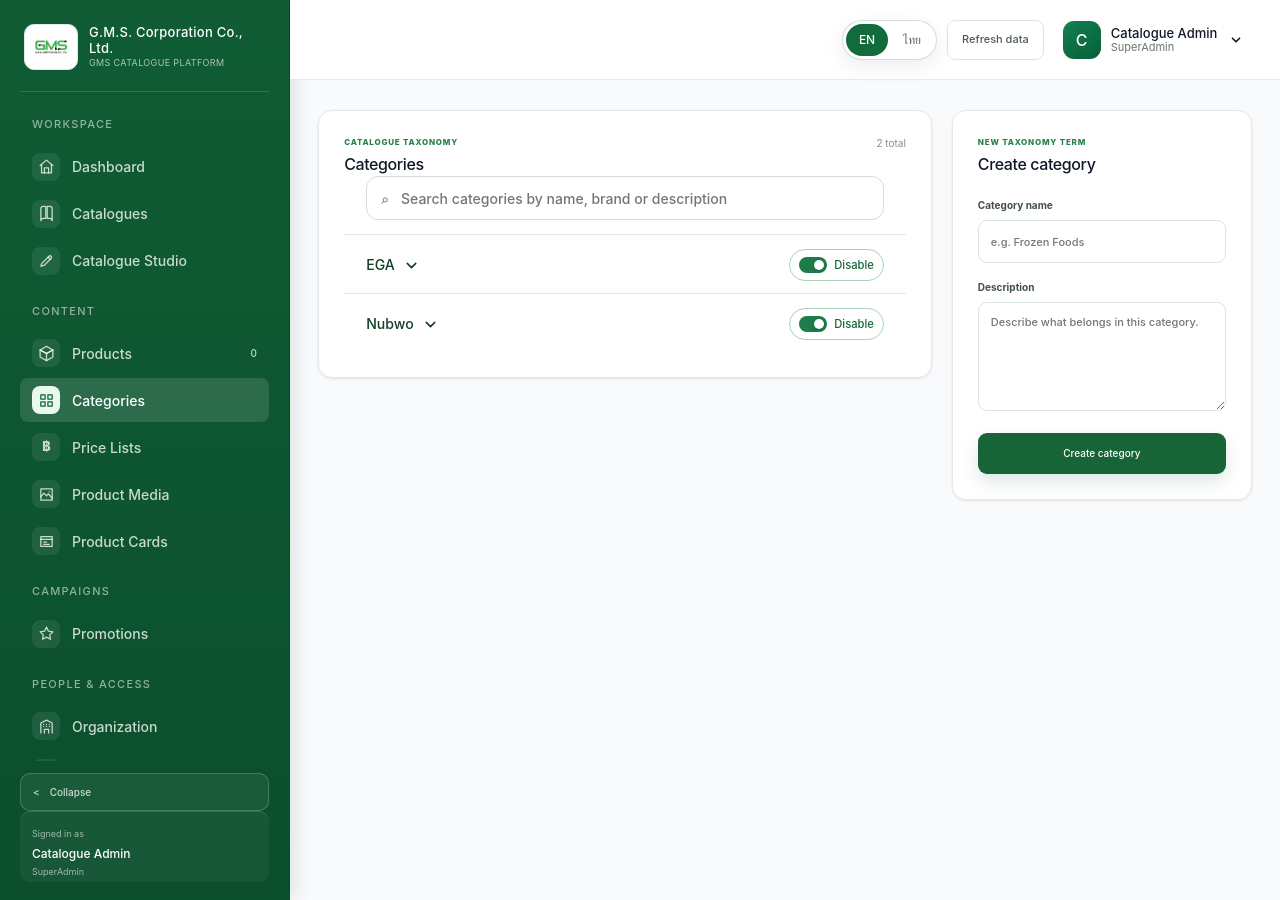
it: category management › loads active and inactive categories for management
Expected: the heading "Categories" is shown, [344,154,424,174]
Click the button with aria-label "Nubwo categories": (406, 324) [366,306,447,342]
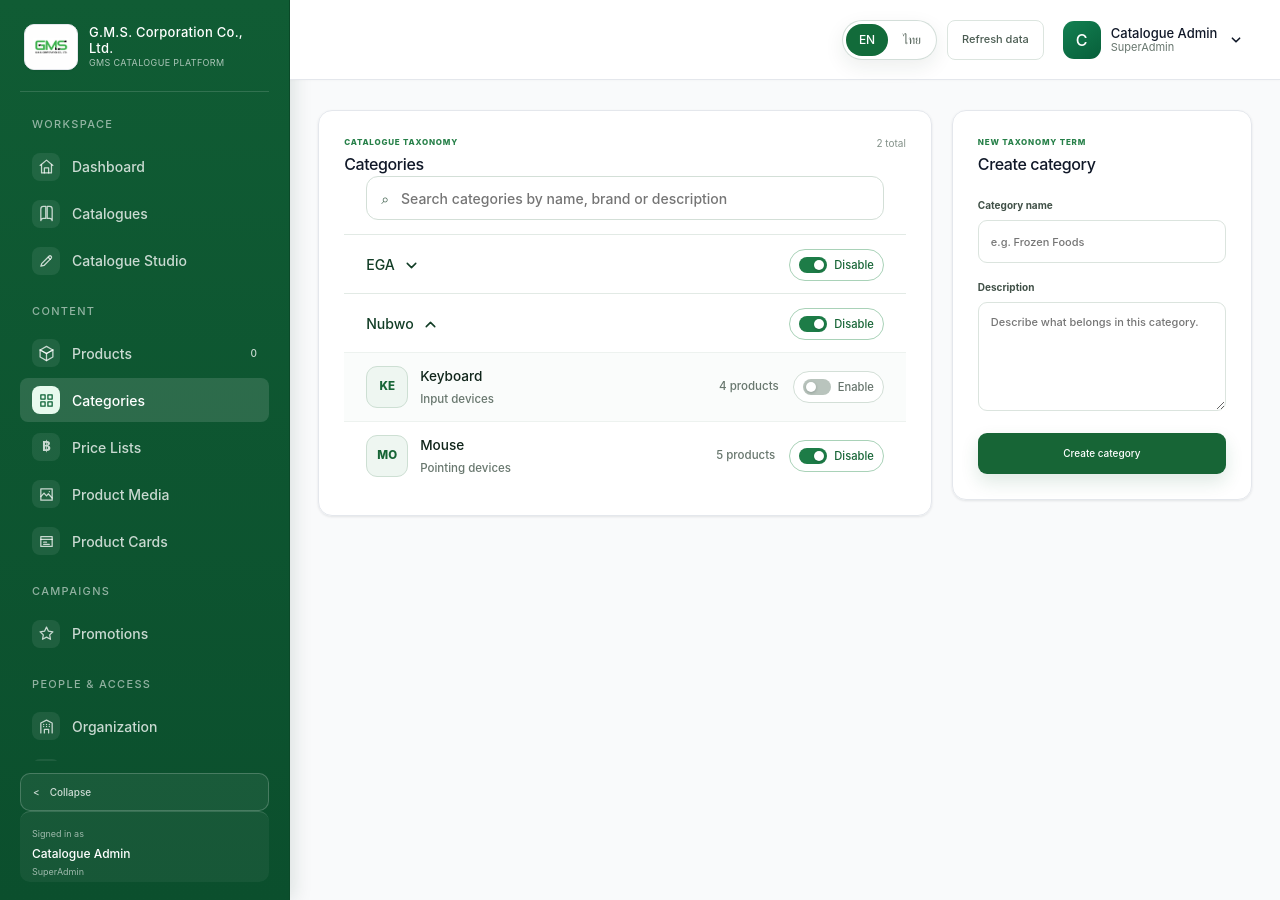
Result: the text "Keyboard" is shown at [420,368,482,384]
